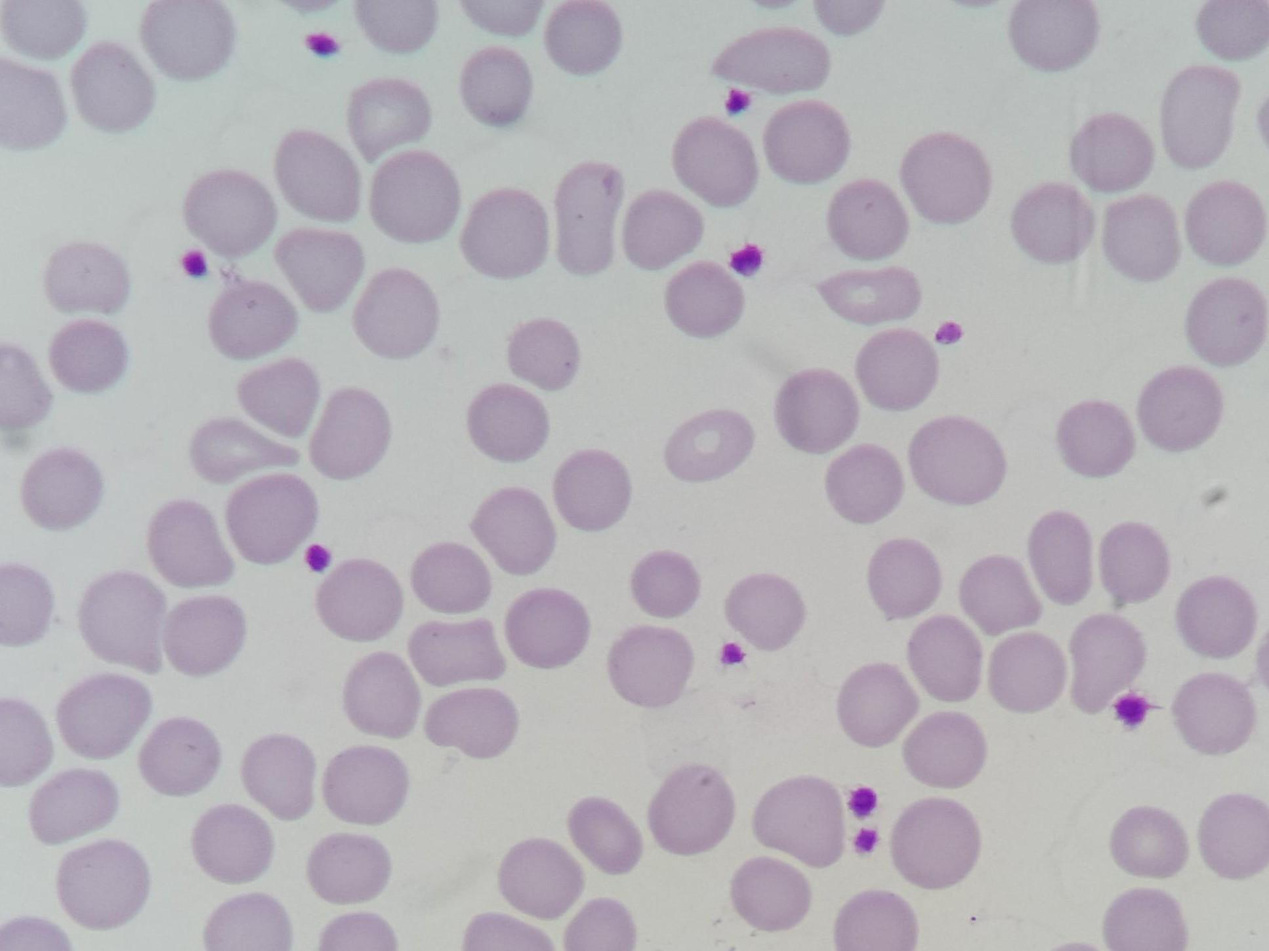Uninfected: (80, 573, 170, 676), (753, 773, 848, 869), (889, 796, 982, 893), (1158, 66, 1244, 170), (57, 837, 149, 932), (909, 415, 1003, 507), (182, 171, 280, 259), (276, 128, 364, 226), (646, 759, 733, 857), (369, 153, 460, 245), (458, 187, 548, 280), (710, 27, 832, 95), (226, 473, 317, 564), (1065, 614, 1146, 716), (902, 133, 990, 225), (554, 159, 622, 278), (69, 41, 155, 135), (353, 269, 440, 359), (138, 0, 233, 82), (187, 418, 305, 484), (274, 227, 364, 313), (59, 676, 151, 760), (1007, 179, 1095, 266), (149, 499, 234, 589), (1186, 277, 1269, 369), (676, 115, 759, 207), (310, 387, 391, 480), (322, 745, 410, 830), (28, 766, 121, 846), (208, 282, 301, 362), (1135, 366, 1221, 452), (960, 555, 1046, 641), (502, 587, 591, 670), (837, 661, 919, 750), (471, 486, 553, 574), (764, 104, 855, 183), (1175, 672, 1257, 759), (20, 448, 104, 532), (44, 238, 132, 318), (622, 187, 706, 270), (607, 626, 692, 708), (346, 81, 432, 162), (1099, 195, 1180, 281), (1068, 115, 1154, 196), (497, 837, 584, 917), (858, 325, 937, 413), (909, 612, 984, 704), (904, 710, 987, 793), (666, 409, 755, 485), (1184, 183, 1265, 266), (825, 179, 908, 260), (238, 358, 322, 438), (778, 369, 858, 453), (1178, 576, 1257, 661), (1095, 519, 1172, 606), (239, 737, 314, 826), (408, 617, 506, 684), (141, 717, 221, 798), (1197, 792, 1269, 882), (166, 594, 245, 676), (732, 855, 814, 934), (1009, 0, 1097, 73), (322, 559, 401, 640), (195, 802, 272, 885), (817, 264, 919, 326), (1027, 514, 1095, 606), (723, 572, 803, 650), (868, 536, 942, 620), (994, 628, 1067, 713), (568, 796, 645, 876), (554, 450, 629, 532), (305, 833, 388, 907), (425, 691, 519, 756), (0, 63, 70, 150), (343, 650, 416, 733), (466, 384, 545, 460), (666, 263, 744, 339), (1111, 805, 1190, 880), (543, 0, 621, 75), (51, 318, 126, 394), (1060, 400, 1135, 476), (410, 540, 489, 612), (463, 45, 529, 129), (830, 445, 900, 523), (202, 892, 293, 951), (0, 697, 56, 792), (832, 887, 915, 951), (1104, 887, 1186, 951), (0, 0, 86, 60), (509, 317, 576, 393), (632, 548, 700, 620), (353, 0, 439, 54), (1194, 0, 1268, 61), (0, 566, 54, 648), (0, 353, 53, 432)
